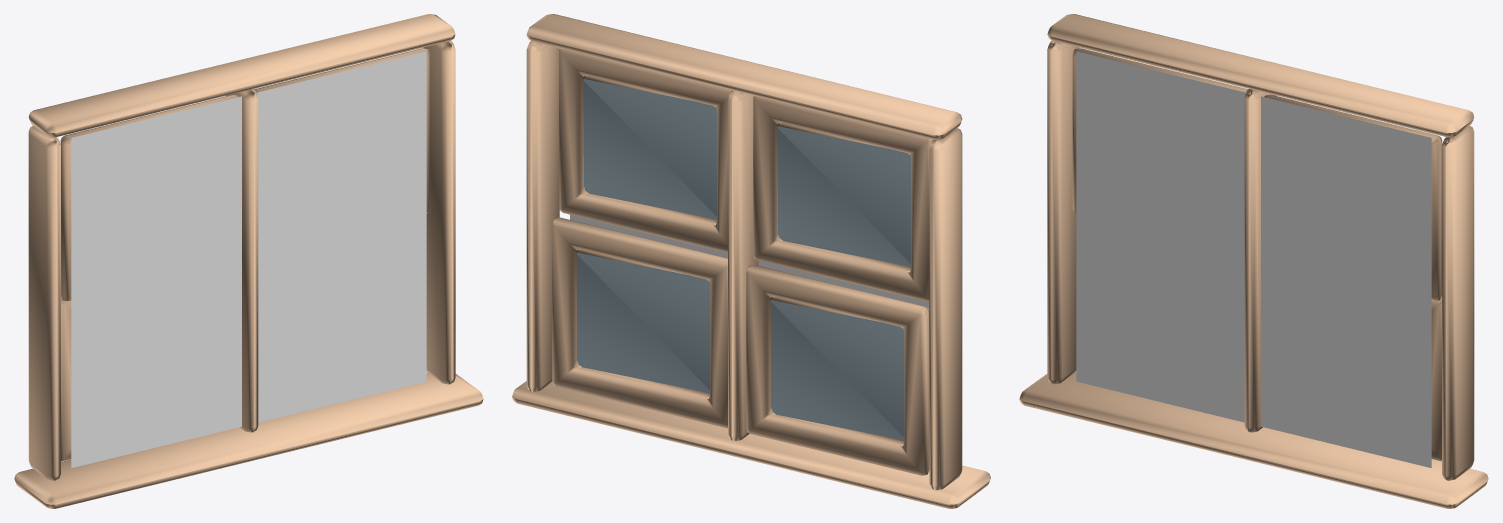
Rendered from window.glb.
The picture shows the model from 3 angles, left to right: view 1: azimuth 30°, elevation 25°; view 2: azimuth 150°, elevation 25°; view 3: azimuth 330°, elevation 25°; orthographic projection. The views are drawn at different scales.
Parts seen in each view (by area): view 1: windowView_windowView, window_win_sill, window_win_top, window_win_left, window_win_right, window_win_mid, window_windowTop, window_windowBottom, window_windowTop.001; view 2: window_windowBottom, window_windowBottom.001, window_windowTop, window_windowTop.001, window_win_top, window_win_sill, window_win_left, window_win_right, window_win_mid, windowView_windowView; view 3: windowView_windowView, window_win_sill, window_win_top, window_win_right, window_win_left, window_win_mid, window_windowTop.001, window_windowBottom.001, window_windowTop.
Boxes of the visible parts, box(x1,y1,x2,y2) form: windowView_windowView: box(71, 51, 426, 467); window_win_sill: box(14, 372, 483, 508); window_win_top: box(28, 14, 455, 137); window_win_left: box(28, 125, 60, 480); window_win_right: box(423, 41, 455, 384); window_win_mid: box(226, 89, 258, 432); window_windowTop: box(60, 94, 238, 300); window_windowBottom: box(61, 296, 71, 461); window_windowTop.001: box(254, 48, 430, 213); window_windowBottom: box(746, 265, 929, 475); window_windowBottom.001: box(552, 217, 727, 428); window_windowTop: box(753, 96, 933, 301); window_windowTop.001: box(559, 48, 732, 252); window_win_top: box(526, 14, 962, 139); window_win_sill: box(512, 381, 990, 508); window_win_left: box(929, 128, 962, 490); window_win_right: box(526, 41, 559, 391); window_win_mid: box(728, 90, 758, 440); windowView_windowView: box(570, 75, 929, 443); windowView_windowView: box(1076, 51, 1431, 467); window_win_sill: box(1019, 372, 1488, 508); window_win_top: box(1047, 14, 1474, 137); window_win_right: box(1442, 125, 1474, 480); window_win_left: box(1047, 41, 1079, 384); window_win_mid: box(1244, 89, 1276, 432); window_windowTop.001: box(1264, 94, 1442, 300); window_windowBottom.001: box(1431, 296, 1441, 461); window_windowTop: box(1072, 48, 1248, 213).
Bounding box in the file's own units: 2.3 × 1.88 × 0.35.
